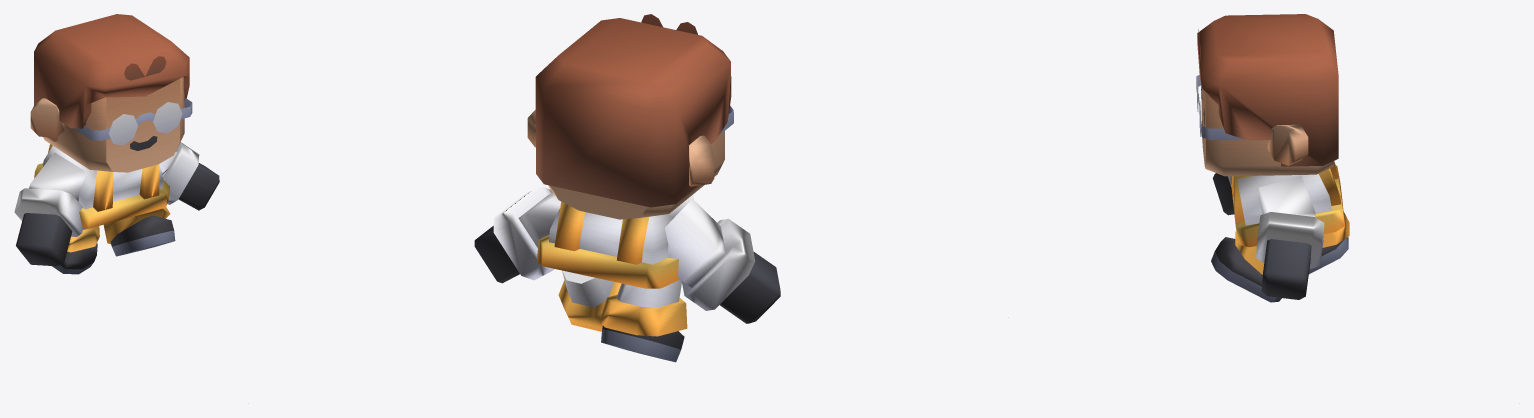
The model's file is builder_sprint_1.glb.
3 renders of one model, left to right at view 1: azimuth 30°, elevation 25°; view 2: azimuth 150°, elevation 25°; view 3: azimuth 270°, elevation 25°, orthographic. The views are drawn at different scales.
Parts seen in each view (by area): view 1: builder-sprint-1; view 2: builder-sprint-1; view 3: builder-sprint-1.
Boxes of the visible parts, x1,y1,x2,y2 form: builder-sprint-1: [14, 14, 219, 274]; builder-sprint-1: [474, 14, 780, 362]; builder-sprint-1: [1196, 14, 1349, 302].
Bounding box in the file's own units: 1.2 × 0.7347 × 1.2.
1 material, 1 textured.
